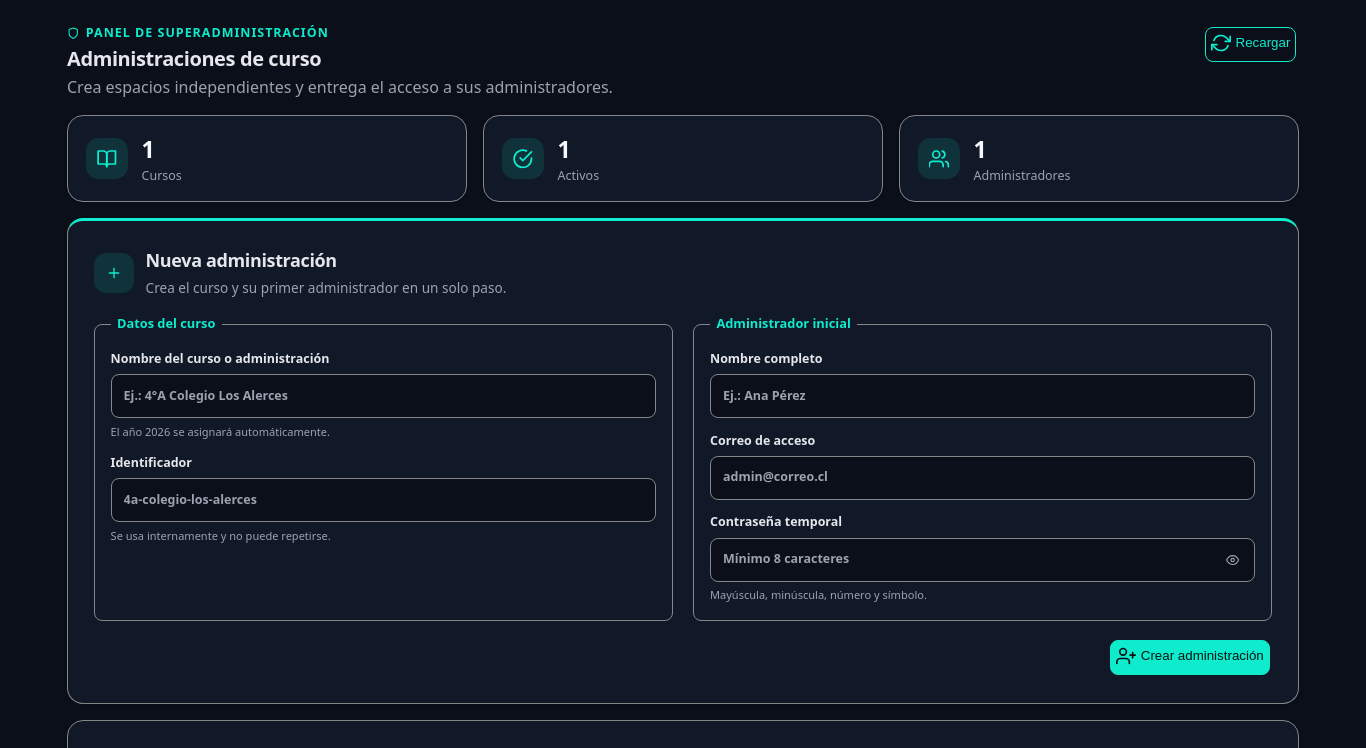
course administration through HTTP › reports organization creation failure without claiming complete success
In the field labelled "Nombre del curso o administración": (383, 396) [111,374,656,418], type "Séptimo B"
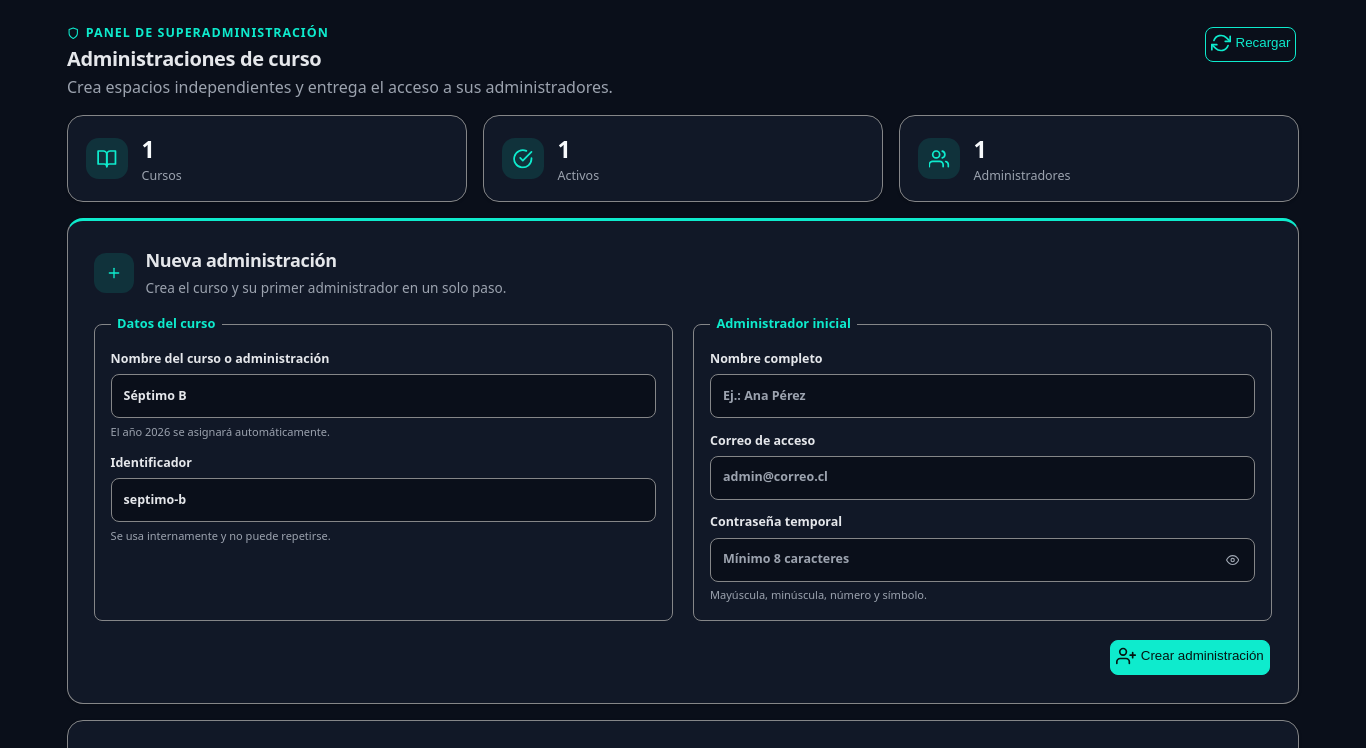
In the field labelled "Nombre completo": (983, 396) [710,374,1255,418], type "  Ana Pérez  "
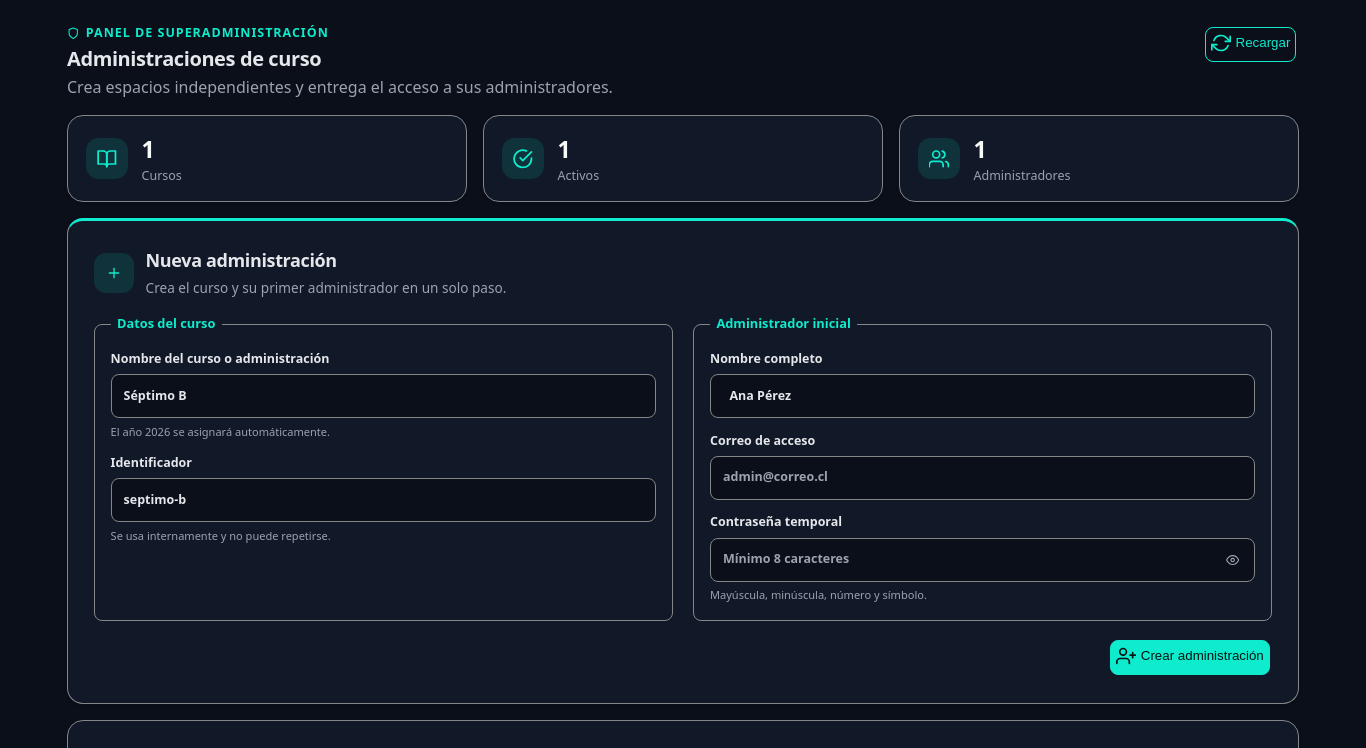
In the field labelled "Correo de acceso": (983, 478) [710,456,1255,500], type "ANA@EXAMPLE.CL"
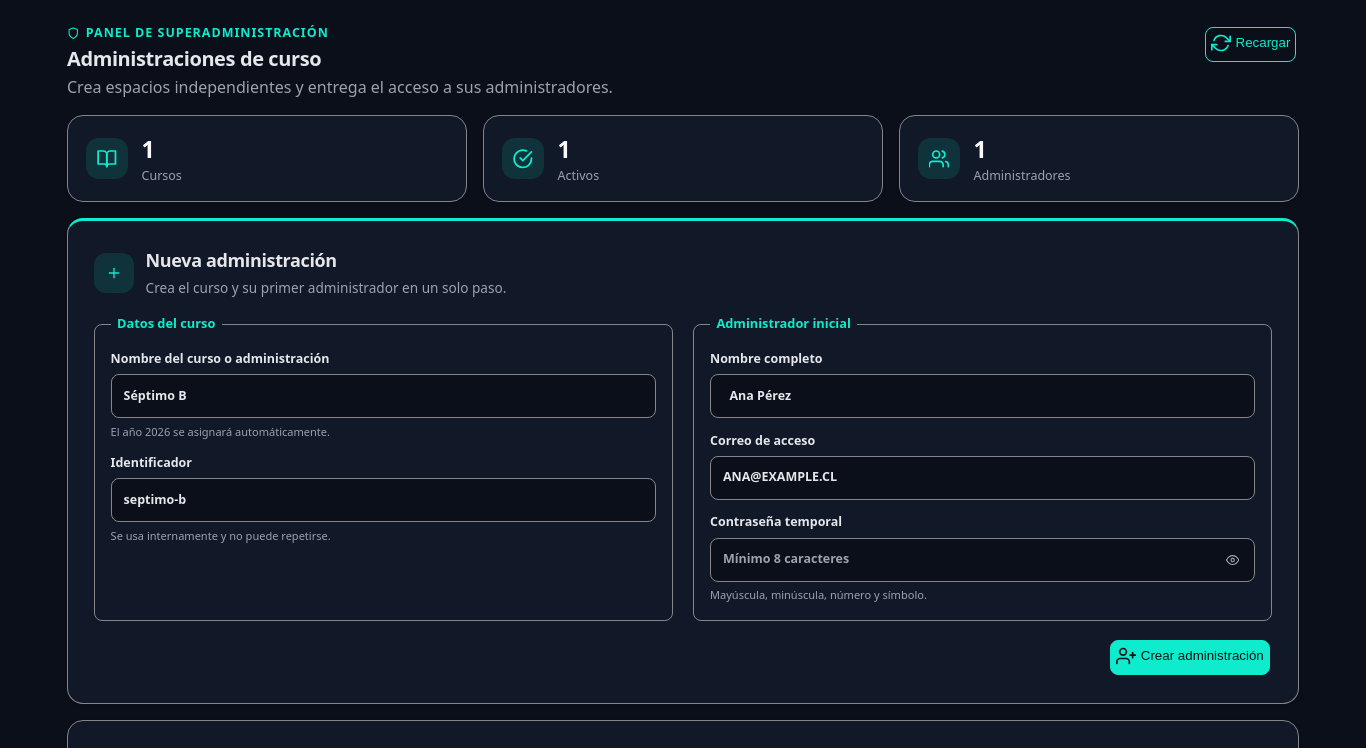
In the password field labelled "Contraseña temporal": (983, 560) [710,538,1255,582], type "ValidPass1!"
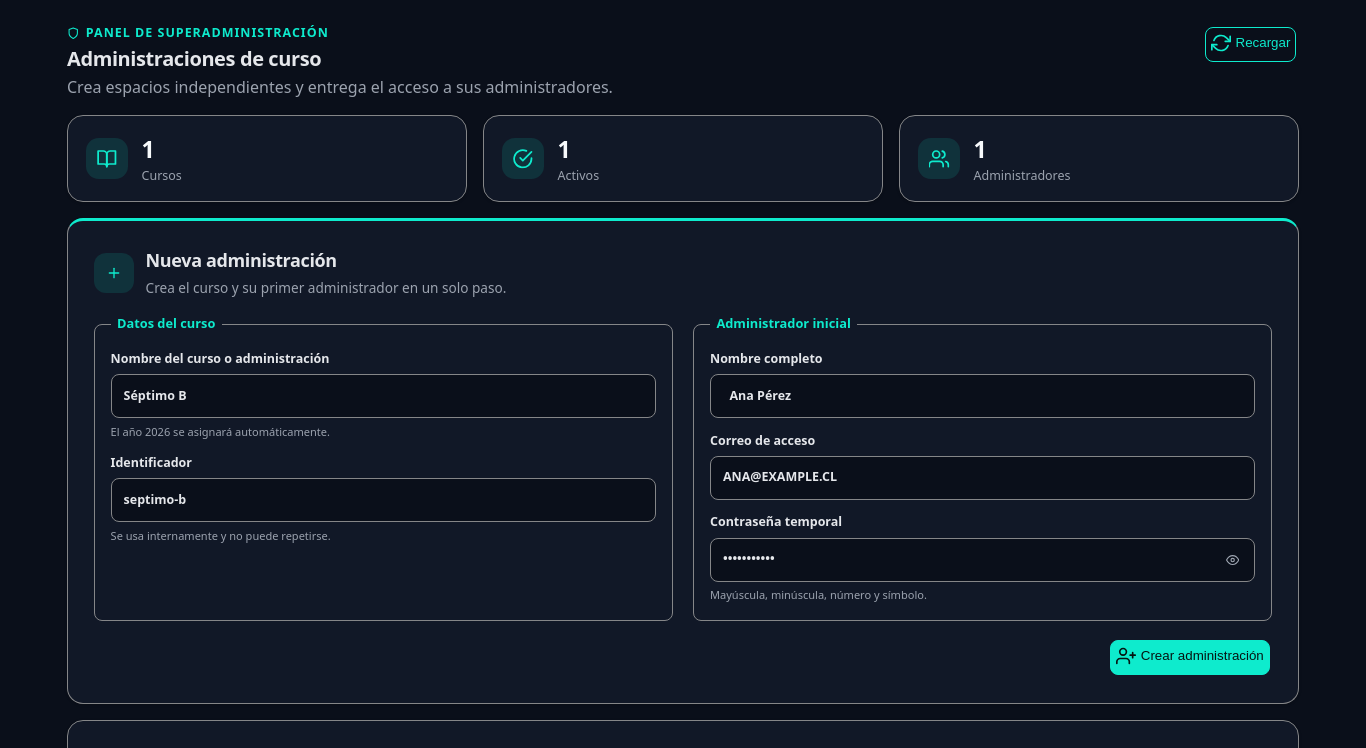
Click the button "Crear administración": (1190, 657) [1110,640,1270,674]
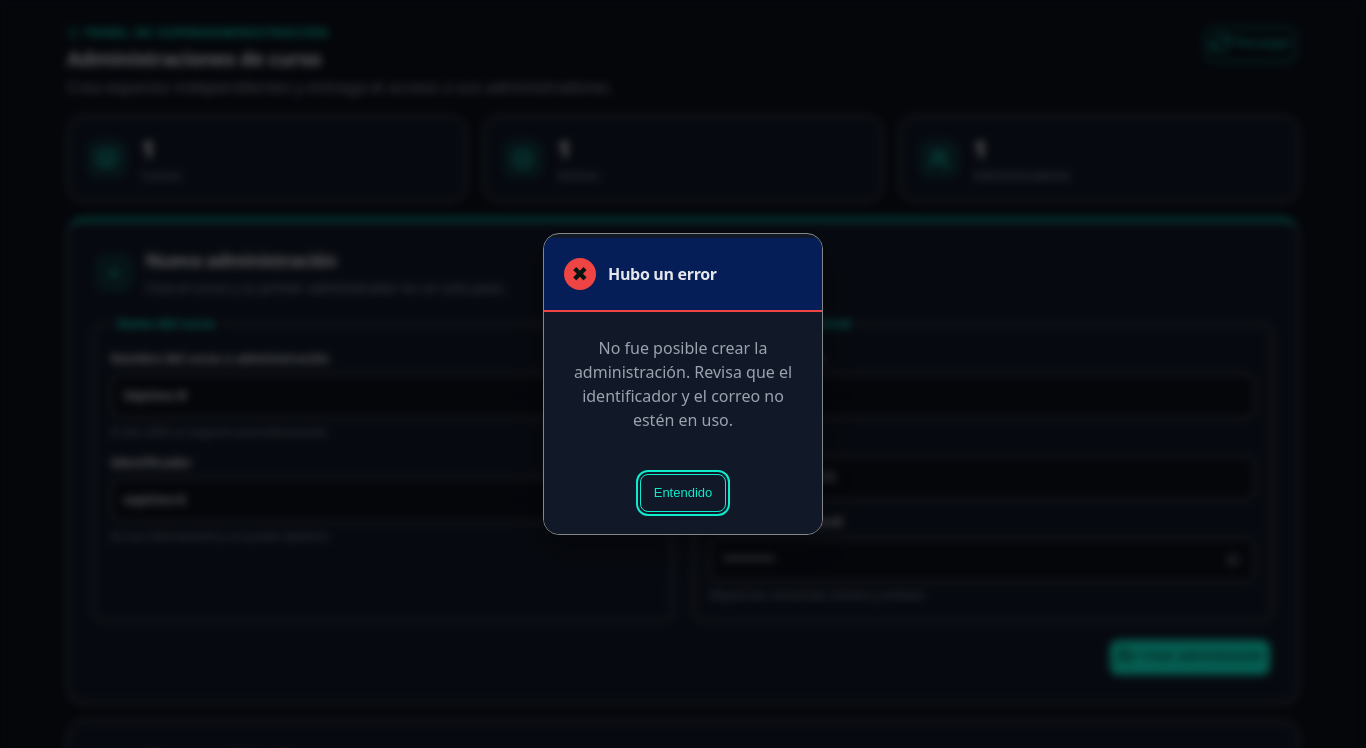
Check: the text "No fue posible crear la administración. Revisa que el identificador y el correo no estén en uso." is shown, box [574,337,792,431]
